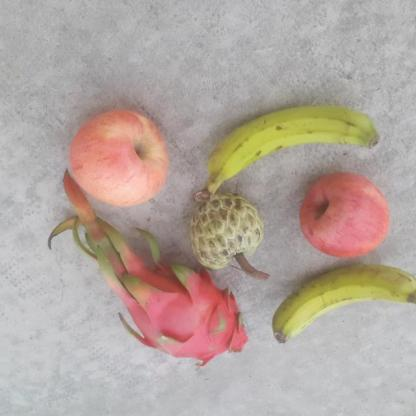annona: (190, 191, 262, 269)
apple: (62, 108, 171, 204), (300, 173, 388, 259)
banana: (206, 104, 385, 187), (268, 261, 416, 347)
pitaya: (127, 270, 250, 372)
